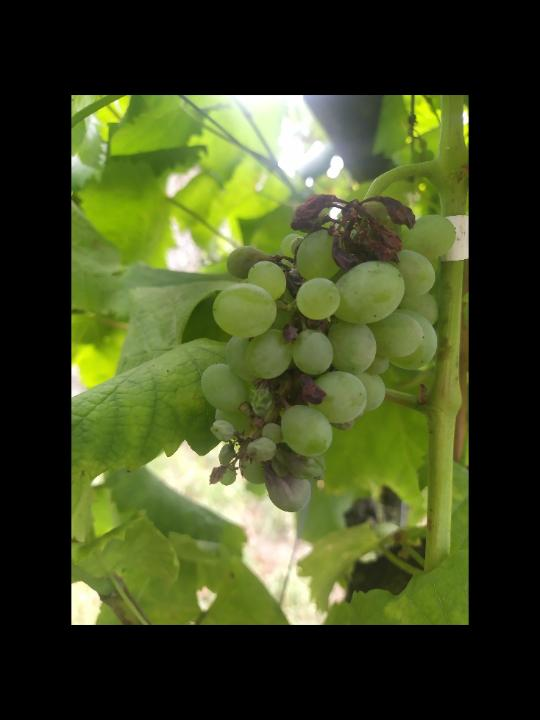grape: (197, 190, 458, 514)
